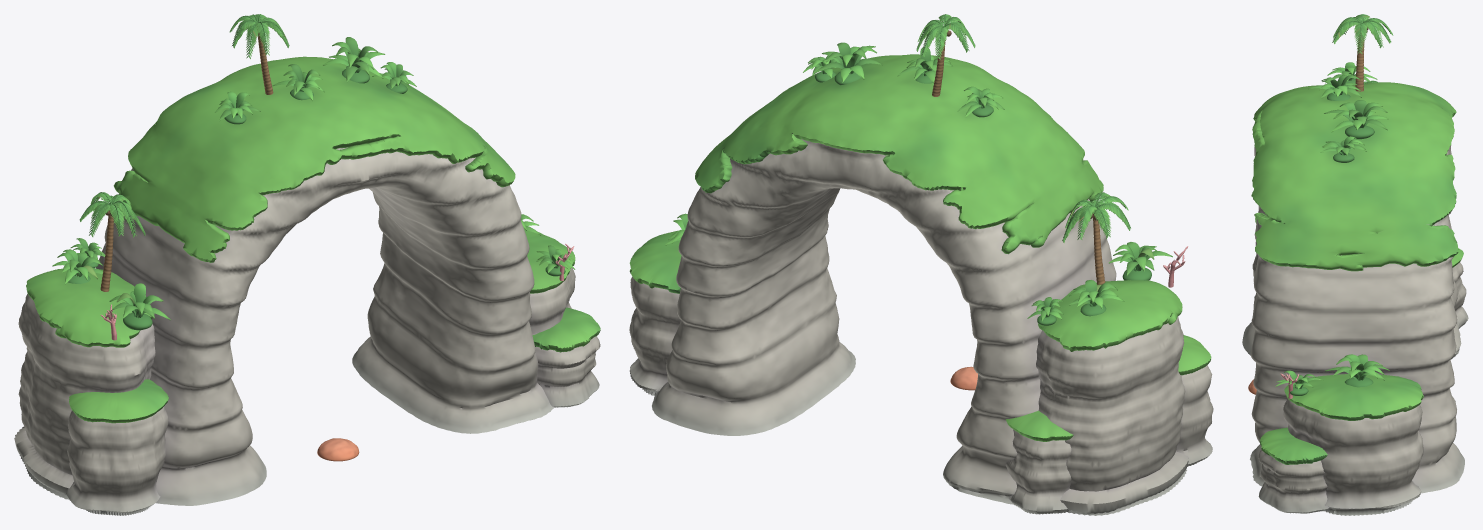
File: CC_B03_SeaArch.fbx
3 renders of one model, left to right at view 1: azimuth 30°, elevation 25°; view 2: azimuth 150°, elevation 25°; view 3: azimuth 270°, elevation 25°, orthographic. The views are drawn at different scales.
Parts seen in each view (by area): view 1: Rock_LOD0, GrassCap_LOD0, Greenery_LOD0, Fronds_LOD0, Coral_LOD0, Trunks_LOD0; view 2: Rock_LOD0, GrassCap_LOD0, Greenery_LOD0, Fronds_LOD0, Trunks_LOD0, Coral_LOD0; view 3: Rock_LOD0, GrassCap_LOD0, Greenery_LOD0, Fronds_LOD0, Trunks_LOD0.
Boxes of the visible parts, <box> form: Rock_LOD0: <box>14,147,600,515</box>; GrassCap_LOD0: <box>26,56,600,423</box>; Greenery_LOD0: <box>52,37,575,330</box>; Fronds_LOD0: <box>79,14,289,237</box>; Coral_LOD0: <box>101,243,574,461</box>; Trunks_LOD0: <box>100,33,273,291</box>; Rock_LOD0: <box>629,139,1213,515</box>; GrassCap_LOD0: <box>629,54,1211,441</box>; Greenery_LOD0: <box>665,42,1172,325</box>; Fronds_LOD0: <box>916,14,1130,242</box>; Trunks_LOD0: <box>932,40,1105,284</box>; Coral_LOD0: <box>950,246,1188,390</box>; Rock_LOD0: <box>1242,145,1468,515</box>; GrassCap_LOD0: <box>1251,82,1463,464</box>; Greenery_LOD0: <box>1275,62,1389,395</box>; Fronds_LOD0: <box>1332,14,1393,83</box>; Trunks_LOD0: <box>1355,33,1364,91</box>.
Size of what is drawn, in the model's own units: 24 by 18 by 10.
